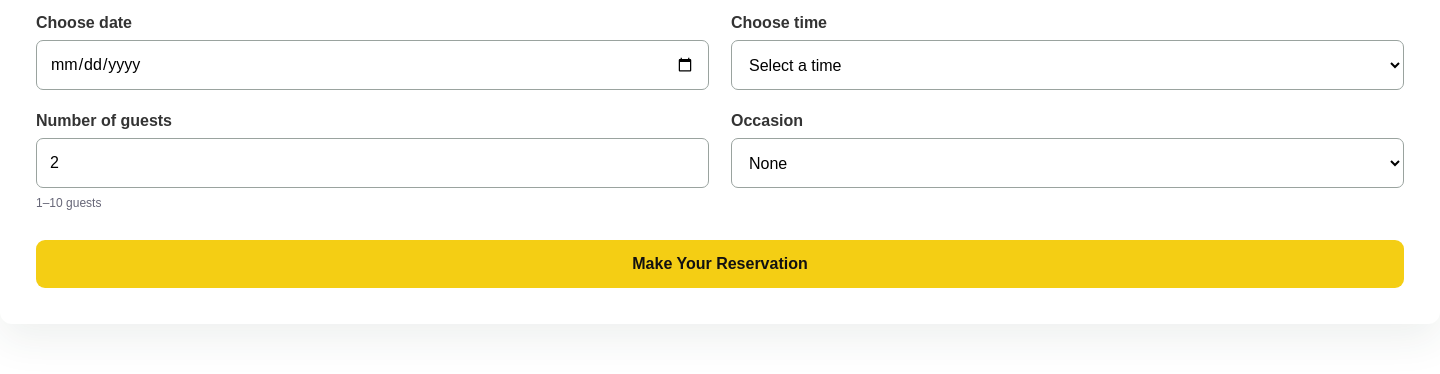
Test: BookingForm › shows meaningful errors for an incomplete form
The width and height of the screenshot is (1440, 374).
Step 1. Click the button with aria-label "confirm table reservation" → x=720, y=264, box left=36, top=240, right=1404, bottom=288
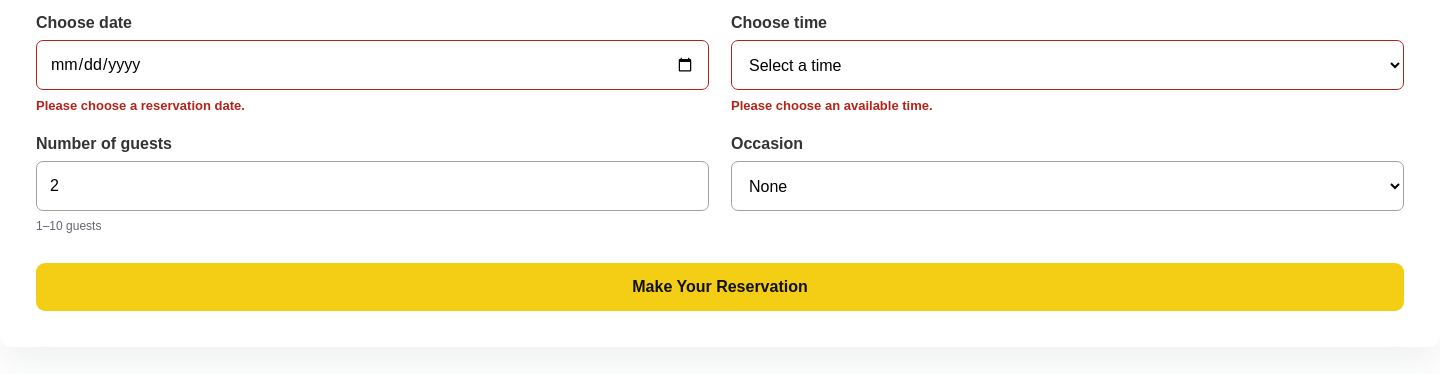
Now the text "Please choose an available time." is shown, box left=731, top=98, right=933, bottom=113
